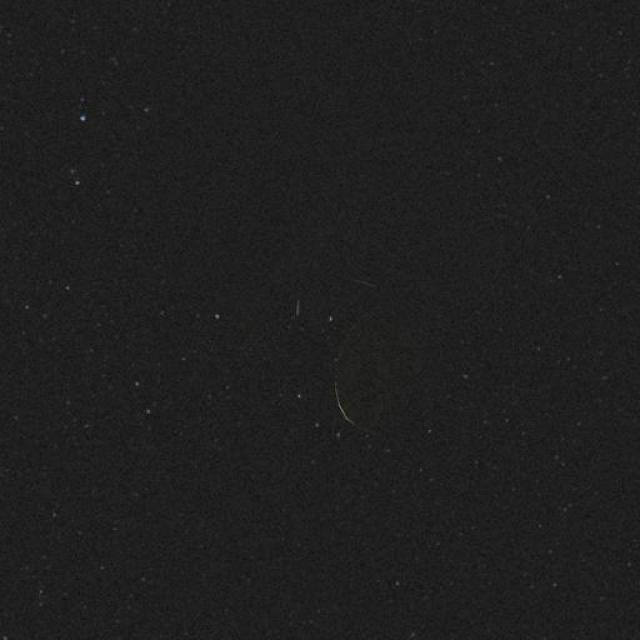debris: (202, 245, 480, 448)
